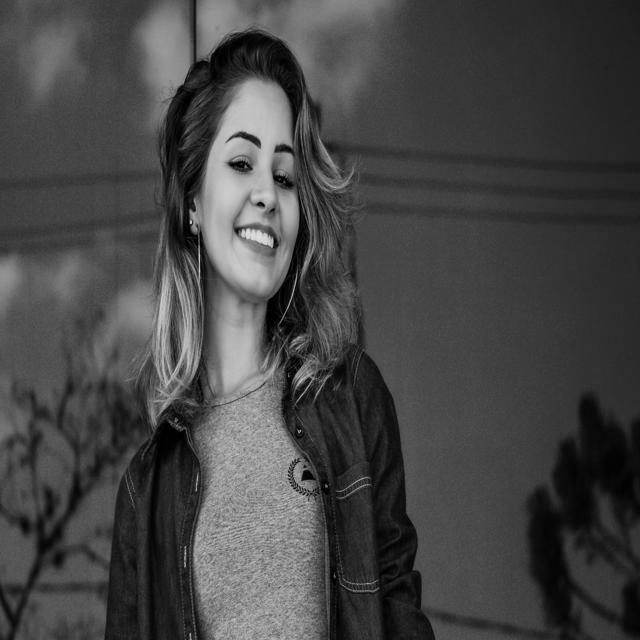Happiness: (200, 72, 308, 302)
